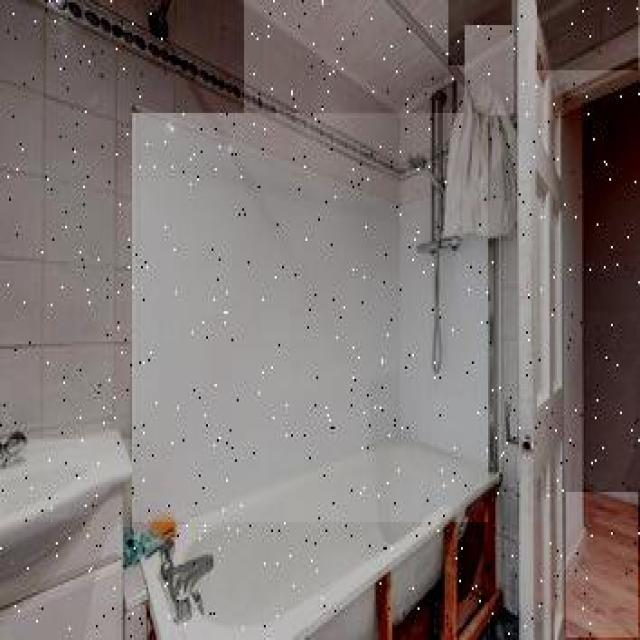Wall: (0, 0, 428, 439), (133, 114, 488, 522), (244, 0, 448, 113), (566, 494, 640, 637), (402, 0, 512, 65), (538, 0, 638, 70), (466, 27, 513, 115)
